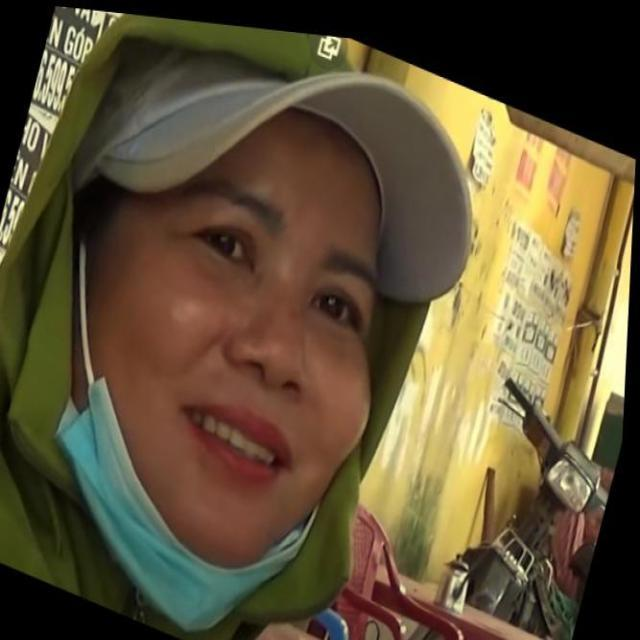hairnet: (37, 124, 394, 639)
